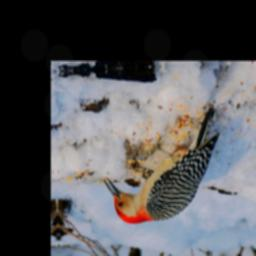Woodpecker: (100, 100, 226, 226)
